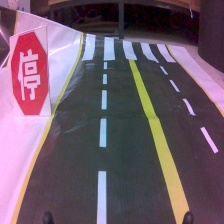stop: (9, 25, 56, 120)
